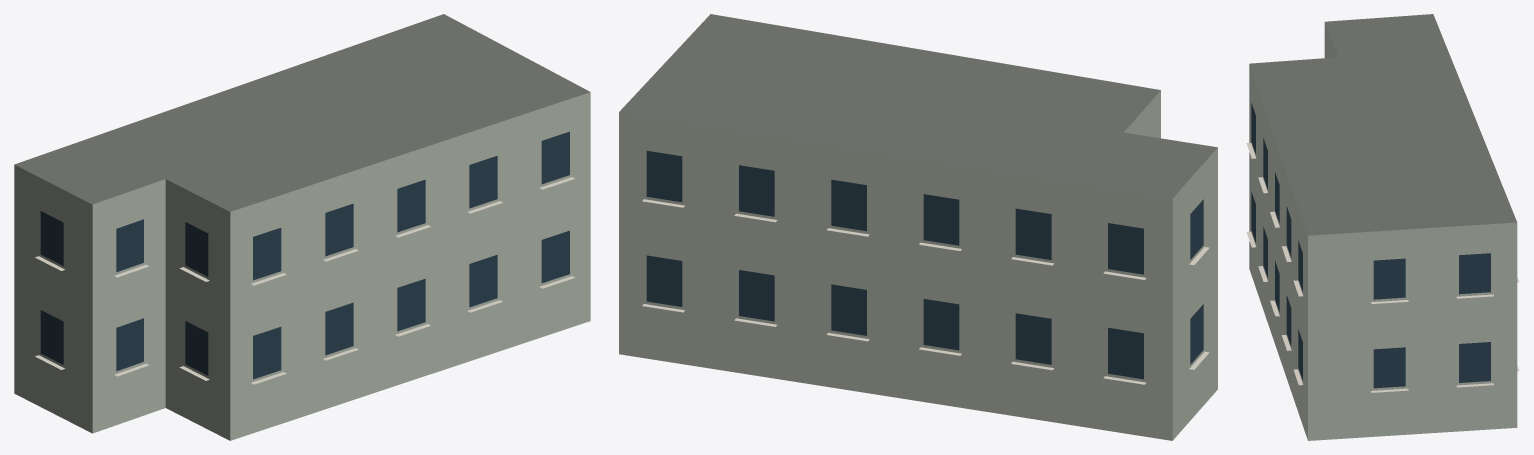
The picture shows the model from 3 angles, left to right: view 1: azimuth 30°, elevation 25°; view 2: azimuth 150°, elevation 25°; view 3: azimuth 270°, elevation 25°; orthographic projection. The views are drawn at different scales.
Parts seen in each view (by area): view 1: Footprint 0, Inferred window bays, Window sills; view 2: Footprint 0, Inferred window bays, Window sills; view 3: Footprint 0, Inferred window bays, Window sills.
Part boxes in pixels (box(x1,y1,x2,y2)): Footprint 0: box(14, 14, 590, 440); Inferred window bays: box(40, 131, 569, 379); Window sills: box(35, 177, 574, 384); Footprint 0: box(619, 14, 1217, 440); Inferred window bays: box(646, 151, 1203, 379); Window sills: box(642, 199, 1209, 384); Footprint 0: box(1249, 14, 1517, 440); Inferred window bays: box(1251, 103, 1490, 388); Window sills: box(1246, 143, 1519, 392).
Size of the model in its own units: 20.08 by 8.67 by 10.46.
